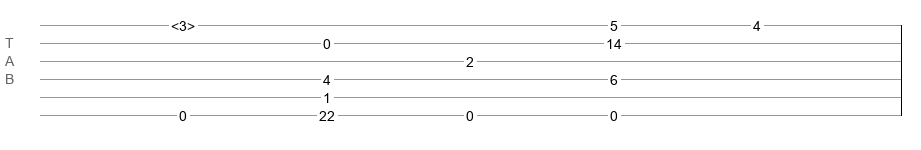0: (179, 108, 187, 118), (323, 36, 331, 46), (466, 108, 474, 118), (610, 108, 618, 118)
1: (323, 90, 331, 100)
14: (606, 36, 622, 46)
2: (466, 54, 474, 64)
22: (319, 108, 335, 118)
4: (323, 72, 331, 82), (753, 18, 761, 28)
5: (610, 18, 618, 28)
6: (610, 72, 618, 82)
harmonic: (171, 18, 195, 28)
